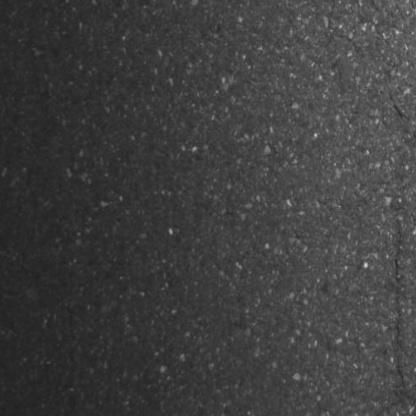Cracks: (390, 217, 411, 388), (342, 0, 389, 47), (382, 80, 412, 129), (370, 395, 407, 416)
